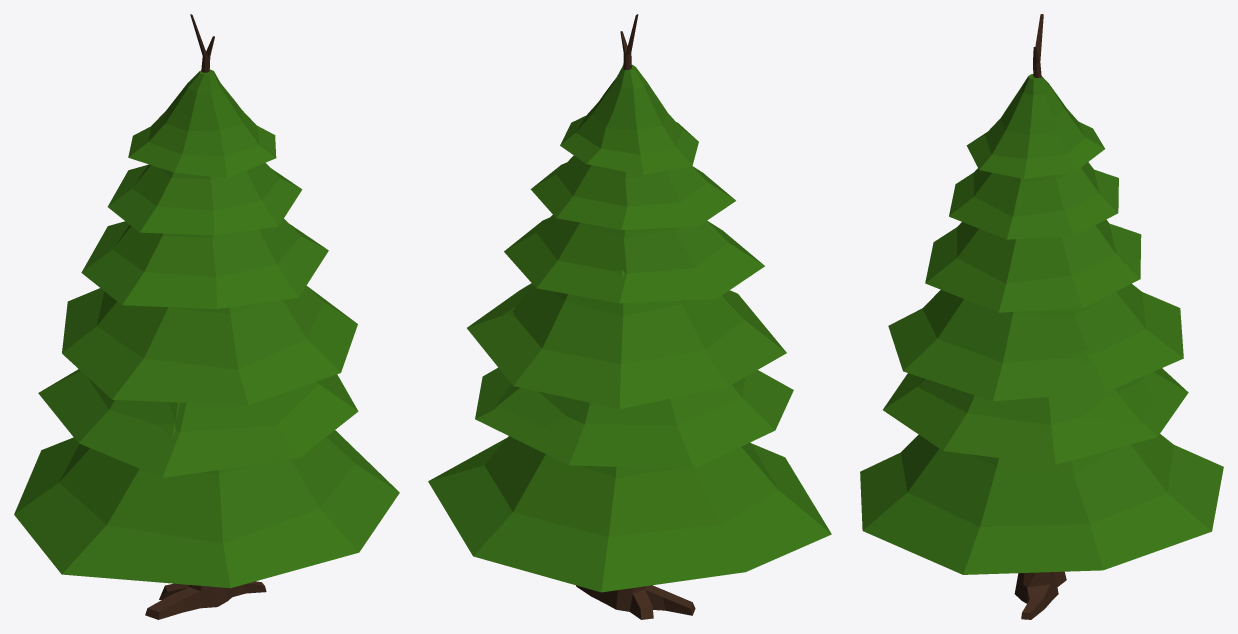
Rendered from low_poly_pine_tree.glb.
The picture shows the model from 3 angles, left to right: view 1: azimuth 30°, elevation 25°; view 2: azimuth 150°, elevation 25°; view 3: azimuth 270°, elevation 25°; orthographic projection. The views are drawn at different scales.
Parts seen in each view (by area): view 1: Cube.005_1, tronc_0; view 2: Cube.005_1, tronc_0; view 3: Cube.005_1, tronc_0.
Boxes of the visible parts, x1,y1,x2,y2 form: Cube.005_1: [14, 69, 399, 588]; tronc_0: [145, 14, 266, 619]; Cube.005_1: [428, 64, 831, 592]; tronc_0: [576, 14, 695, 619]; Cube.005_1: [860, 74, 1223, 574]; tronc_0: [1014, 14, 1066, 619].
Bounding box in the file's own units: 17.32 × 28.77 × 16.53.
